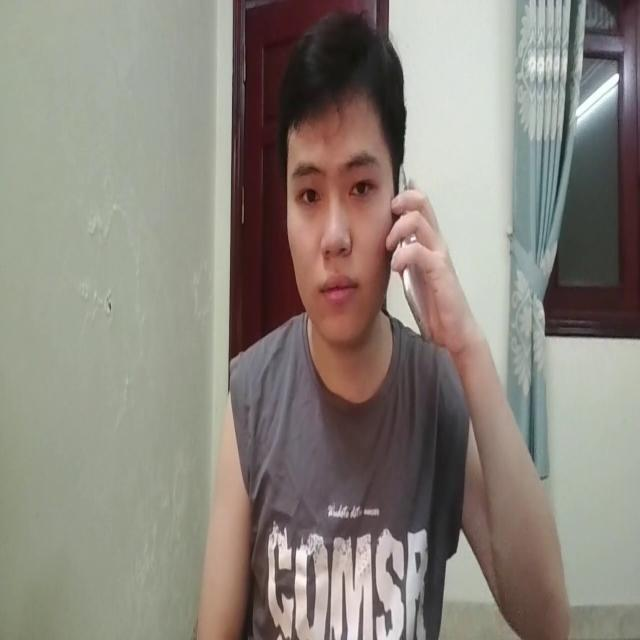phone: (394, 149, 442, 347)
student: (196, 10, 569, 640)
